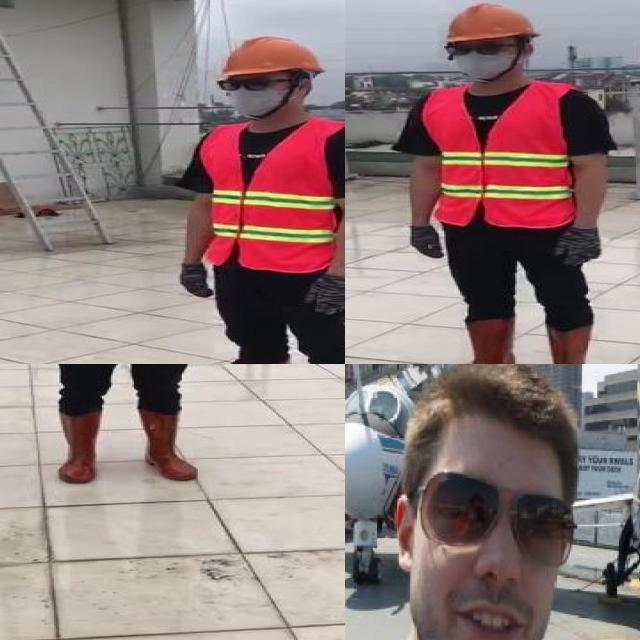boots: (132, 407, 200, 483), (443, 316, 517, 364), (54, 409, 100, 485), (541, 322, 598, 364)
face_mask: (215, 73, 296, 118), (442, 36, 514, 78)
face_nomask: (416, 467, 572, 640)
glasses: (403, 470, 572, 561), (214, 74, 278, 96), (442, 38, 512, 58)
hand_glove: (552, 228, 604, 268), (299, 273, 345, 315), (180, 258, 215, 302), (410, 226, 450, 258)
head_helmet: (207, 32, 331, 78), (435, 0, 541, 43)
head_nohelmet: (410, 364, 581, 455)
person: (395, 0, 615, 364), (166, 30, 345, 364), (2, 364, 229, 491)
vest: (194, 120, 345, 272), (421, 80, 575, 227)
